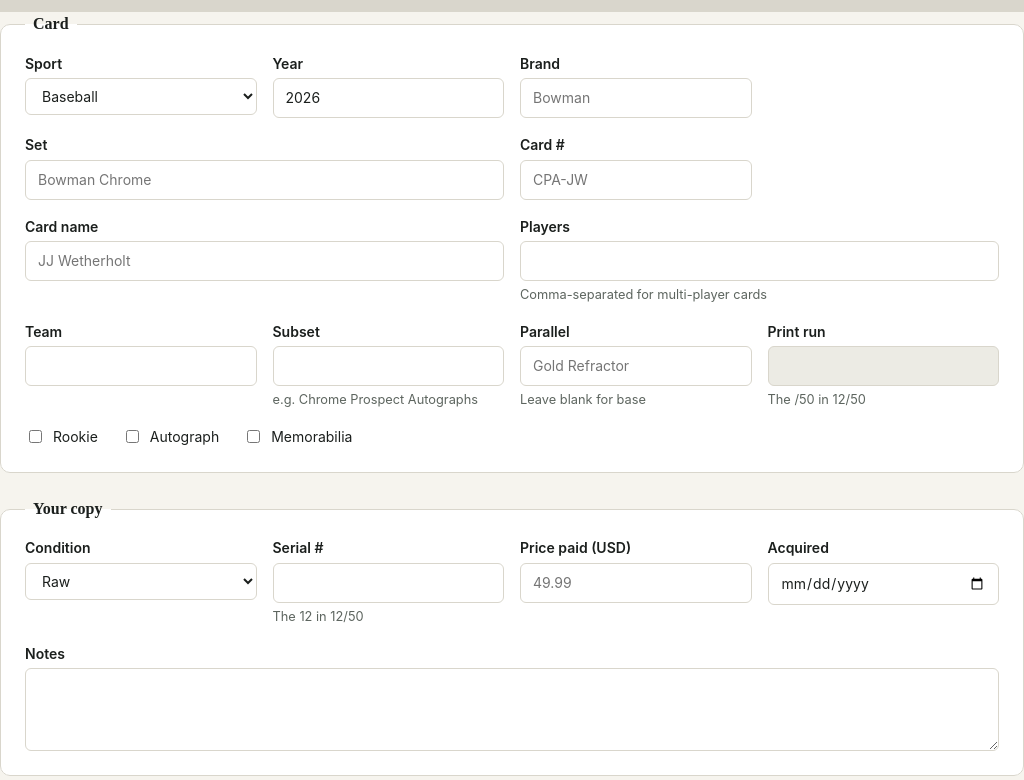
Scenario: CardForm › disables print run until a parallel is named
Expected: the field labelled "Print run" is disabled, 768,346 -> 999,386
Type "Gold" into the field labelled "Parallel" at (636, 366), box 520,346 -> 752,386
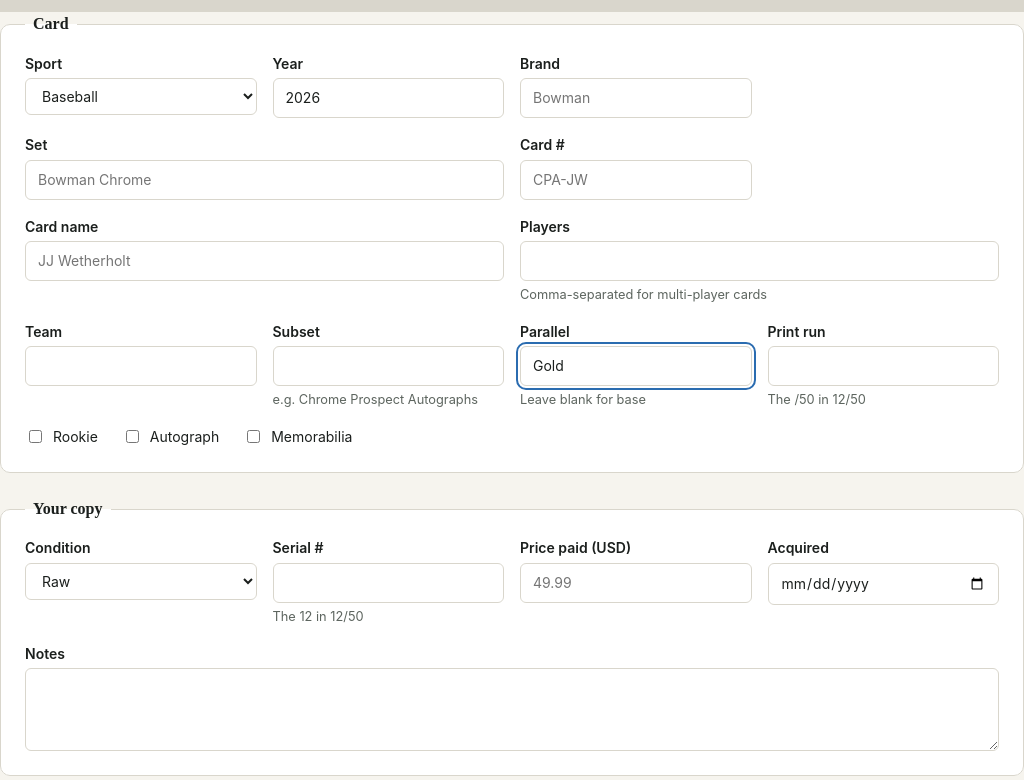
Expected: the field labelled "Print run" is enabled, 768,346 -> 999,386
